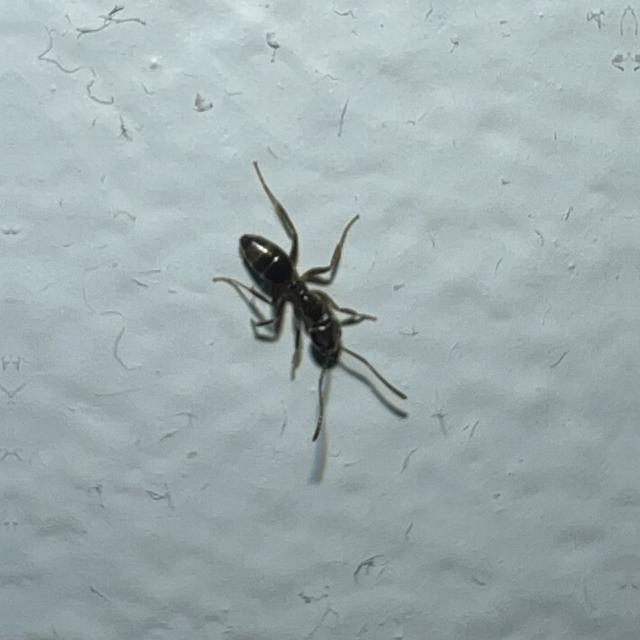Tapinoma: (218, 196, 398, 414)
